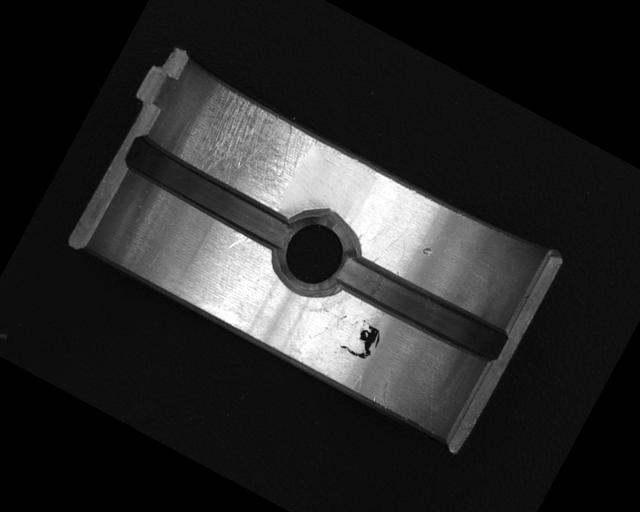blot: (336, 312, 388, 366)
bruise: (421, 245, 434, 257)
gap: (330, 244, 514, 371), (117, 132, 298, 253)
hole: (257, 194, 370, 309)
nick: (226, 230, 249, 255)
scratch: (165, 75, 322, 215)
